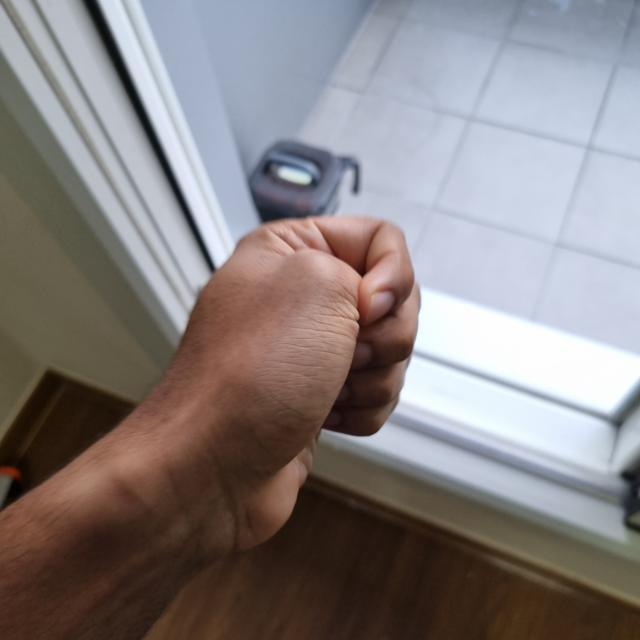Rock: (134, 212, 417, 543)
